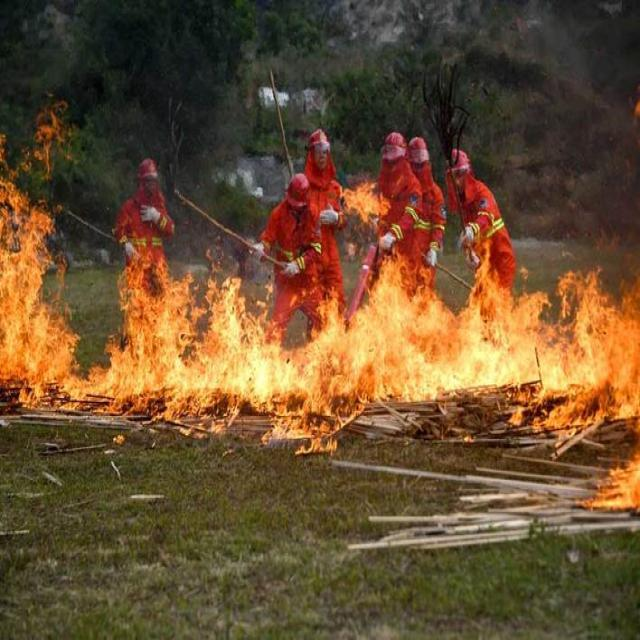Fire: (83, 275, 640, 422), (0, 158, 79, 408), (592, 444, 640, 520)
